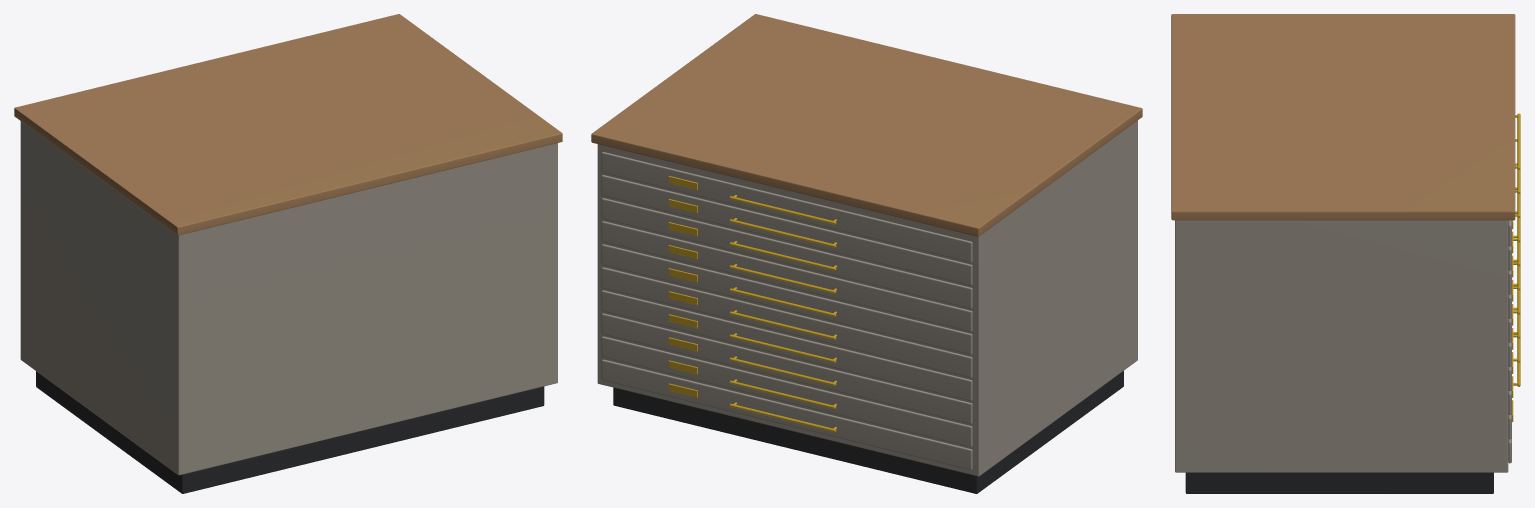
Rendered from prop_plan_chest.glb.
3 views of the same model, side by side, from view 1: azimuth 30°, elevation 25°; view 2: azimuth 150°, elevation 25°; view 3: azimuth 270°, elevation 25° (orthographic). The views are drawn at different scales.
Parts seen in each view (by area): view 1: Chest; view 2: Chest; view 3: Chest.
Boxes of the visible parts, bbox=[...] form: Chest: bbox=[14, 14, 562, 493]; Chest: bbox=[591, 14, 1142, 493]; Chest: bbox=[1171, 14, 1520, 493].
Size of what is drawn, in the model's own units: 1.32 by 0.9 by 0.9844.
